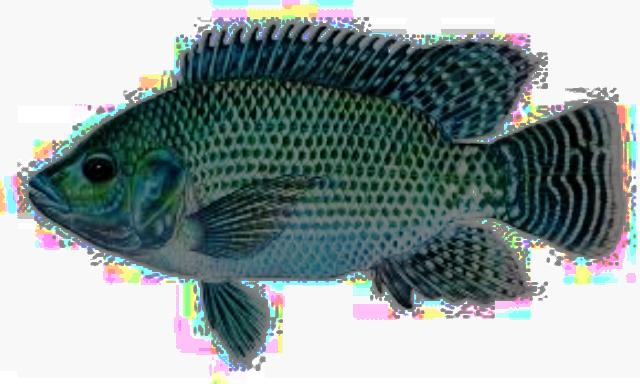Healthy Fish: (26, 24, 627, 362)
